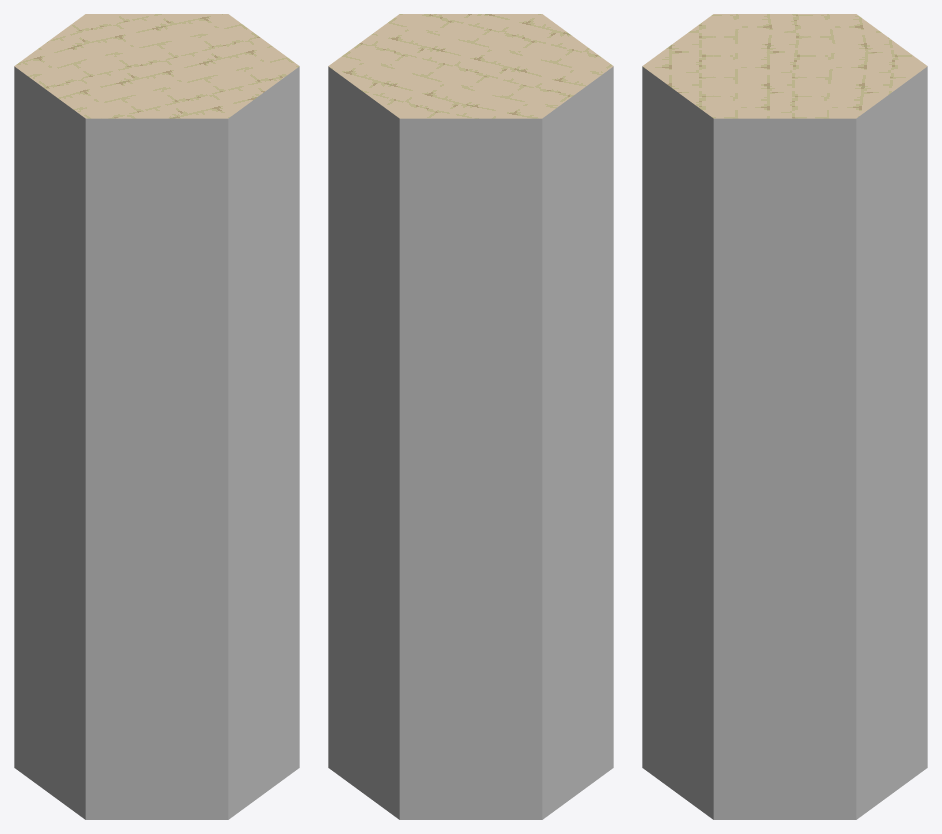
The model's file is Tower-Small-Taller.fbx.
3 renders of one model, left to right at view 1: azimuth 30°, elevation 25°; view 2: azimuth 150°, elevation 25°; view 3: azimuth 270°, elevation 25°, orthographic.
Visible parts, largest first — view 1: Small-Tower-Taller; view 2: Small-Tower-Taller; view 3: Small-Tower-Taller.
Boxes of the visible parts, x1,y1,x2,y2 form: Small-Tower-Taller: (14,14,299,819); Small-Tower-Taller: (328,14,613,819); Small-Tower-Taller: (642,14,927,819).
Size of the model in its own units: 1401 by 4384 by 1618.
